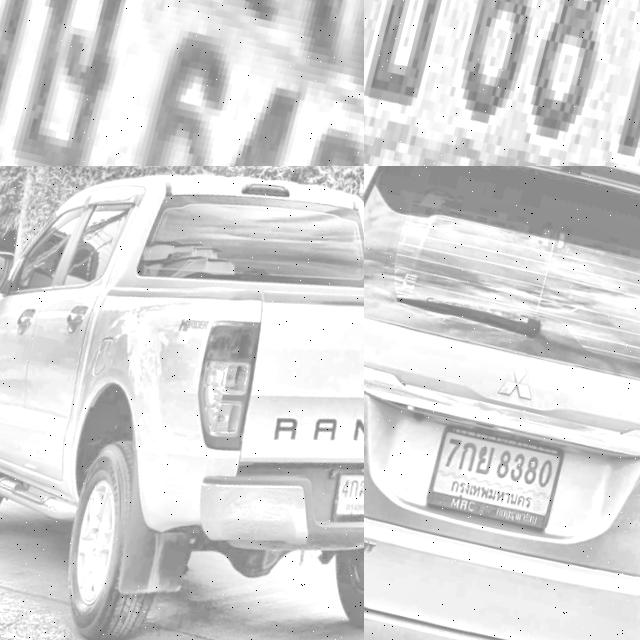license-plate: (0, 0, 364, 166), (364, 0, 640, 166), (420, 417, 568, 540), (326, 456, 364, 536)
